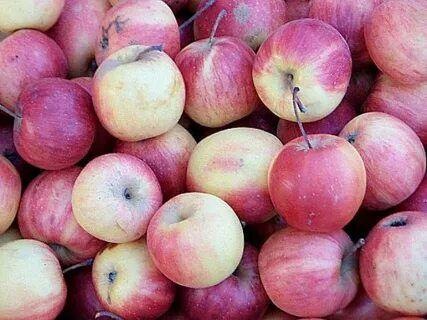Apple: (253, 20, 351, 121), (268, 134, 368, 230), (148, 190, 244, 288), (91, 46, 185, 142), (260, 231, 359, 317), (71, 154, 164, 242), (9, 80, 94, 170), (176, 37, 258, 126), (2, 239, 68, 318)
